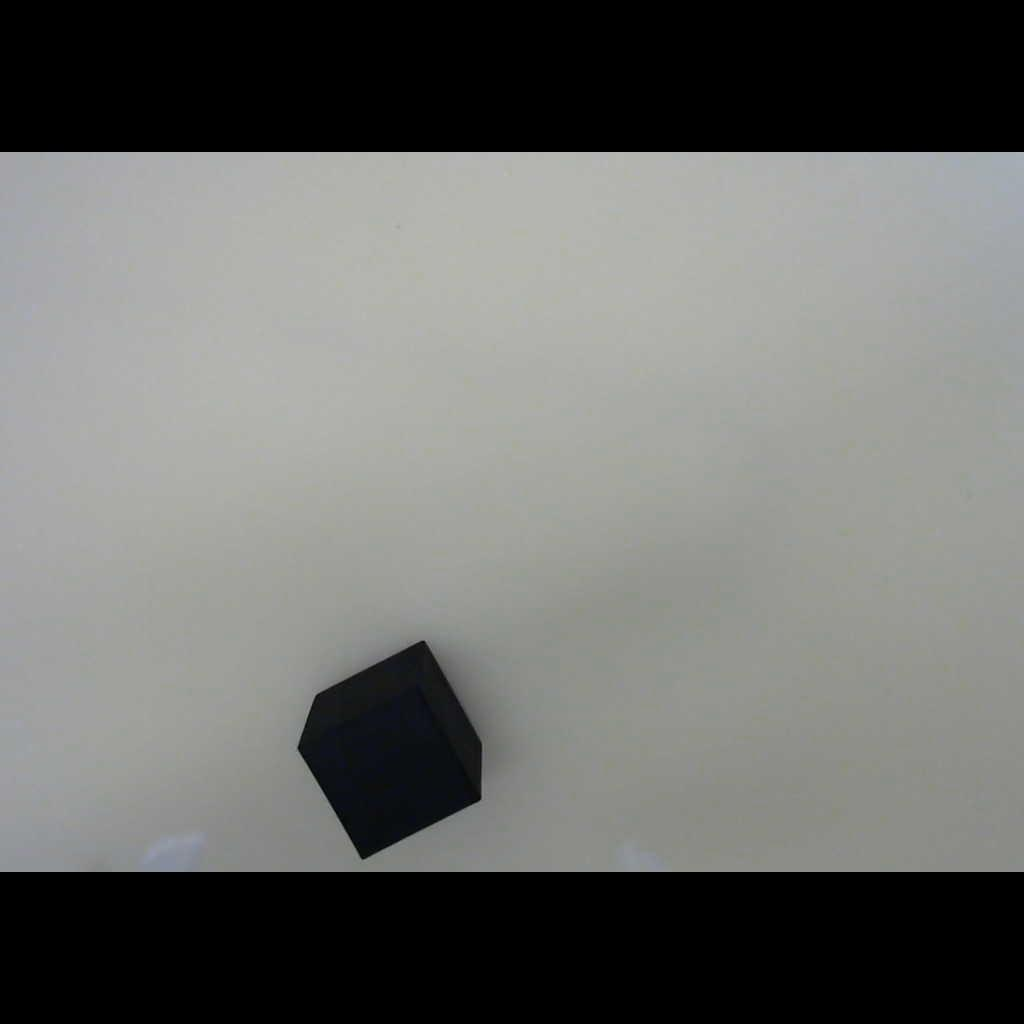square: (260, 618, 521, 880)
